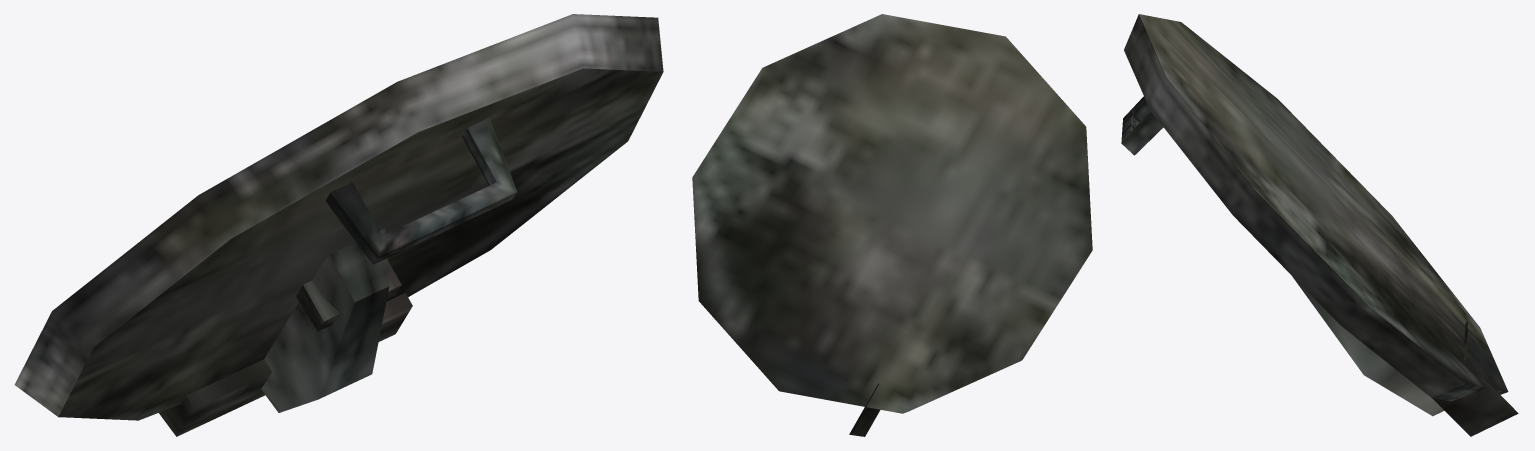
The model's file is prop_tiger_part_3.glb.
3 views of the same model, side by side, from view 1: azimuth 30°, elevation 25°; view 2: azimuth 150°, elevation 25°; view 3: azimuth 270°, elevation 25° (orthographic). The views are drawn at different scales.
Bounding box in the file's own units: 23.15 × 18.7 × 17.67.
1 material, 1 textured.
